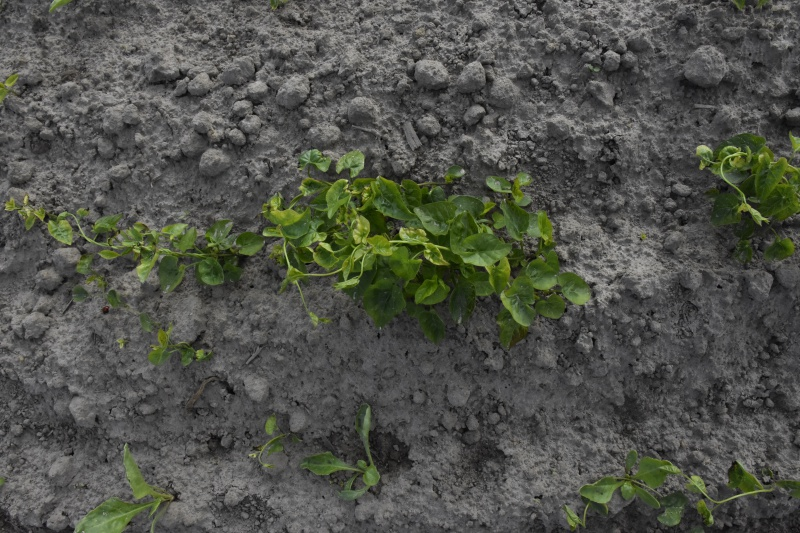field bindweed: (11, 156, 578, 337), (559, 447, 773, 533), (694, 128, 800, 257), (247, 414, 292, 471)
sugar beet: (61, 439, 186, 533), (297, 399, 388, 503)
